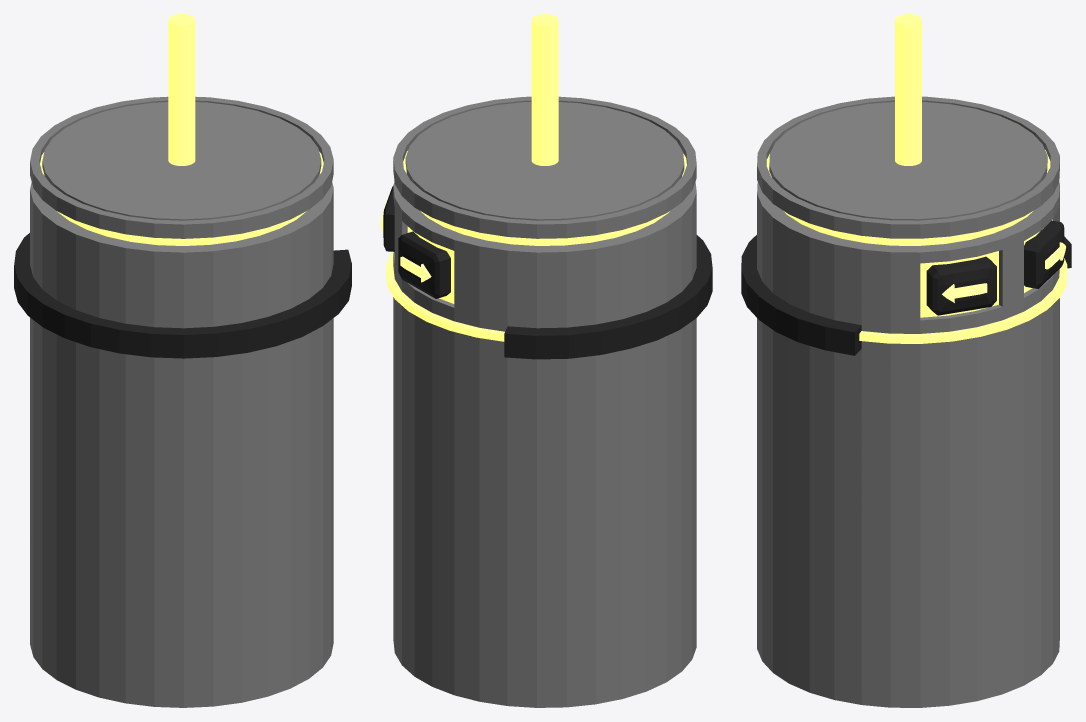
3 views of the same model, side by side, from view 1: azimuth 30°, elevation 25°; view 2: azimuth 150°, elevation 25°; view 3: azimuth 270°, elevation 25° (orthographic).
Parts seen in each view (by area): view 1: Stand; view 2: Stand, Stand.002, Stand.001; view 3: Stand, Stand.001, Stand.002.
Boxes of the visible parts, x1=… form: Stand: x1=14, y1=14, x2=351, y2=707; Stand: x1=386, y1=14, x2=712, y2=707; Stand.002: x1=398, y1=231, x2=450, y2=298; Stand.001: x1=380, y1=186, x2=394, y2=251; Stand: x1=741, y1=14, x2=1071, y2=707; Stand.001: x1=926, y1=256, x2=996, y2=315; Stand.002: x1=1024, y1=220, x2=1065, y2=288.
Size of the model in its own units: 216 by 453 by 218.
